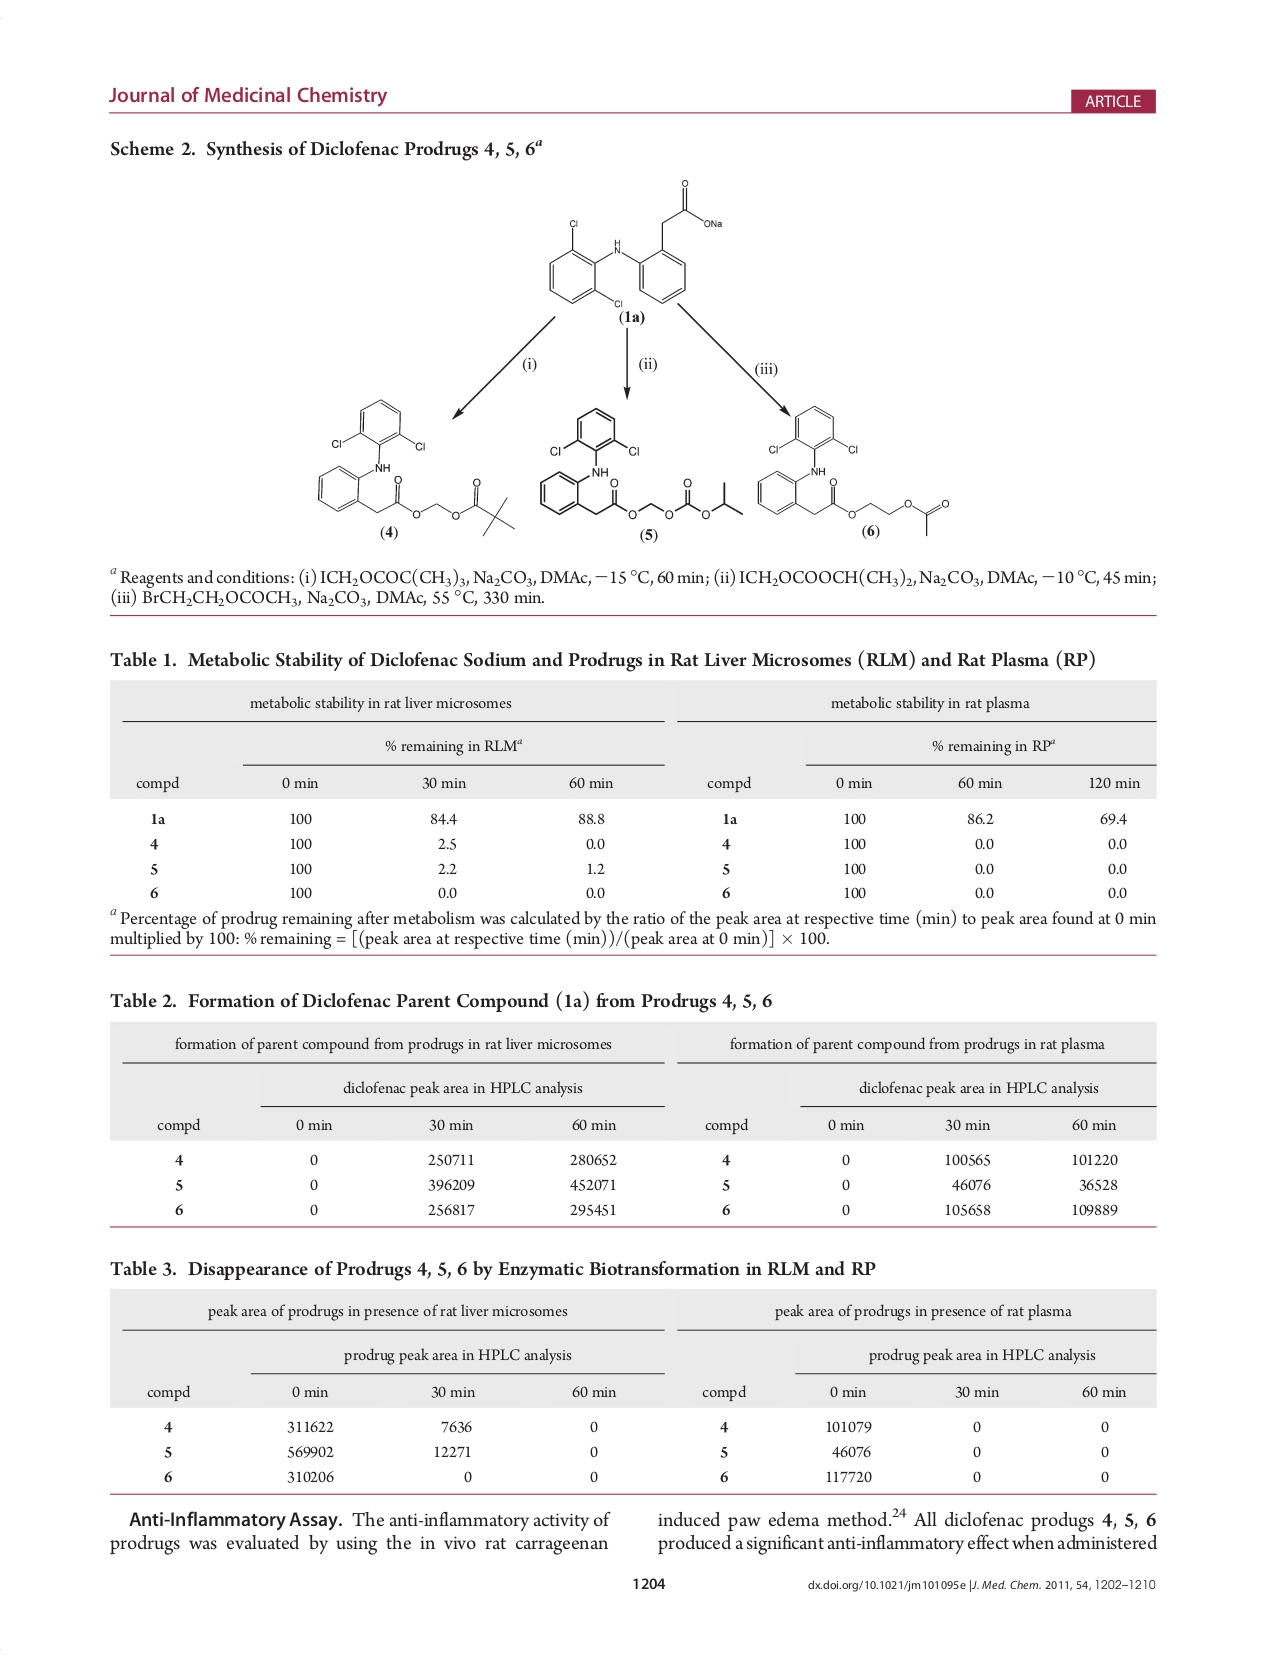exist_molecular: (313, 398, 513, 540), (755, 404, 951, 539), (535, 406, 749, 524), (545, 176, 725, 307)
